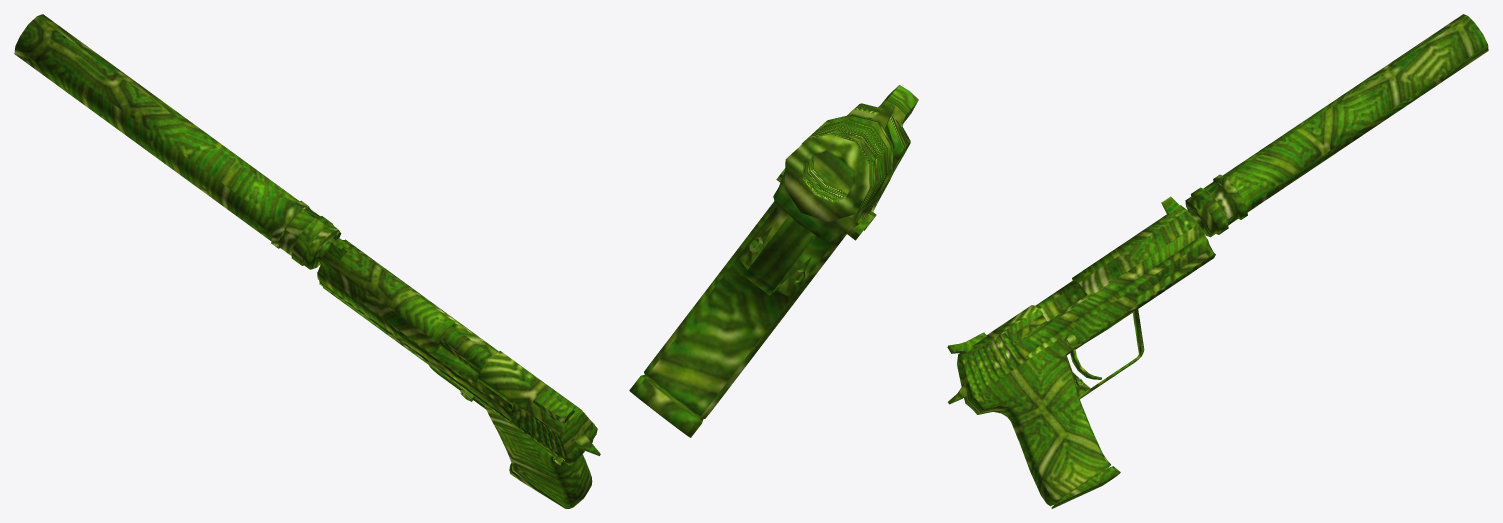
Rendered from blue.fbx.
The picture shows the model from 3 angles, left to right: view 1: azimuth 30°, elevation 25°; view 2: azimuth 150°, elevation 25°; view 3: azimuth 270°, elevation 25°; orthographic projection. The views are drawn at different scales.
Parts seen in each view (by area): view 1: pistol4; view 2: pistol4; view 3: pistol4.
Boxes of the visible parts, x1=… form: pistol4: x1=14, y1=14, x2=600, y2=508; pistol4: x1=629, y1=85, x2=918, y2=437; pistol4: x1=947, y1=14, x2=1488, y2=508.
Size of the model in its own units: 448 by 488 by 666.
Materials: 1 (1 with a texture image).
